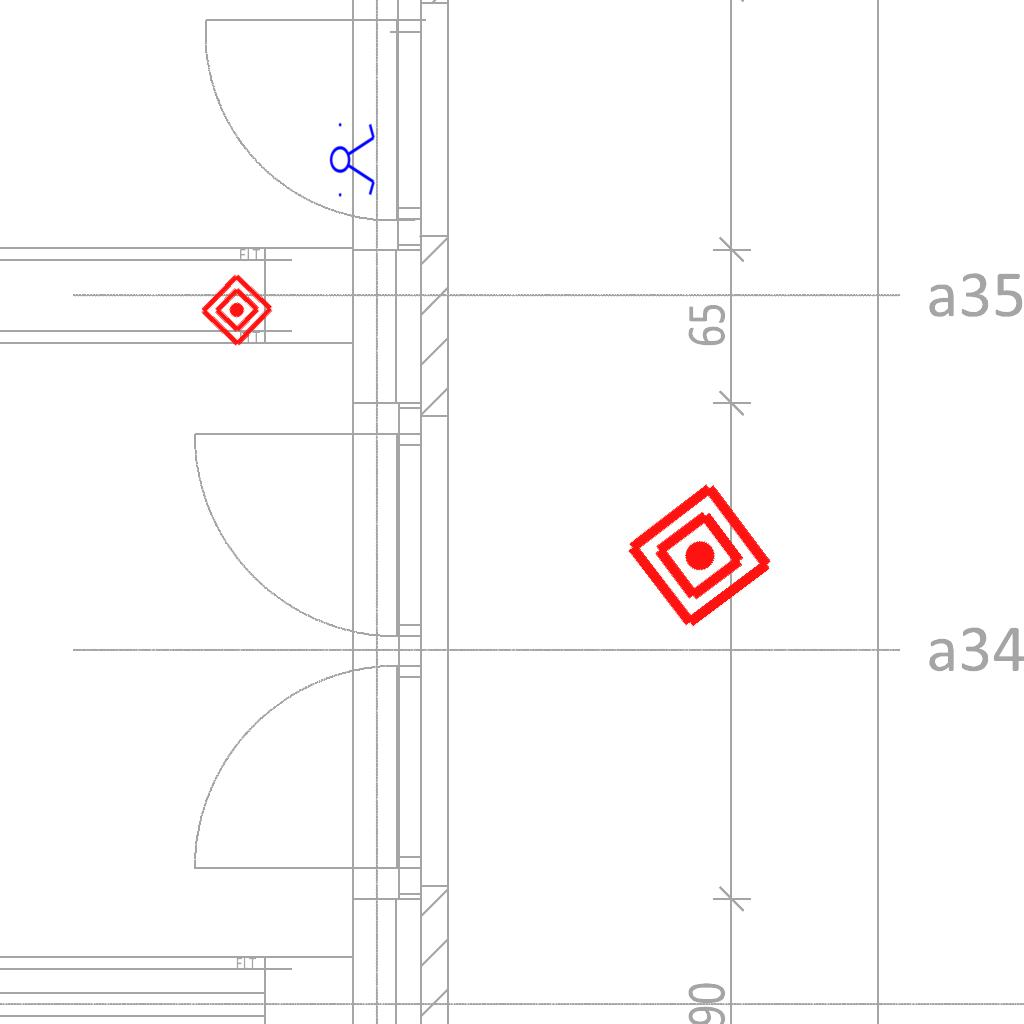NAM-Nichtautomatischer_Melder: (620, 476, 779, 635), (197, 270, 277, 350)
Serienschalter: (329, 117, 377, 201)
